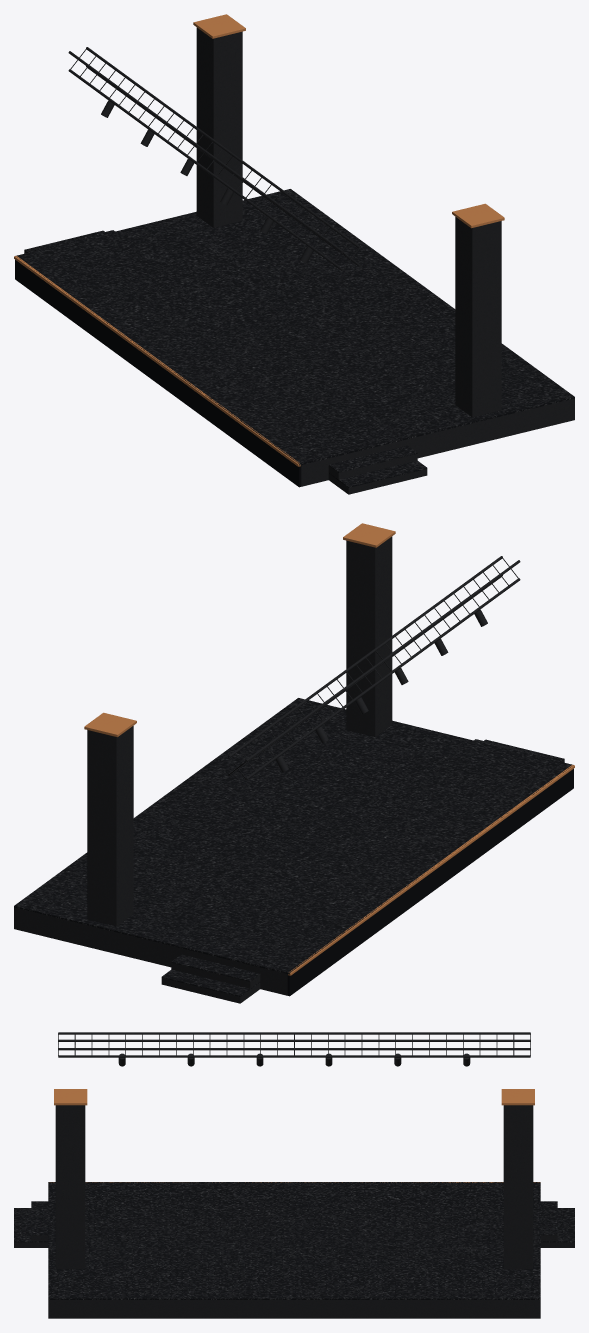
File: SM_EC_Stage.glb
3 views of the same model, one above another, from view 1: azimuth 30°, elevation 25°; view 2: azimuth 150°, elevation 25°; view 3: azimuth 270°, elevation 25° (orthographic). The views are drawn at different scales.
Visible parts, largest first — view 1: SM_EC_Stage; view 2: SM_EC_Stage; view 3: SM_EC_Stage.
Part boxes in pixels (x1,y1,x2,y2): SM_EC_Stage: (14,14,574,494); SM_EC_Stage: (14,523,574,1003); SM_EC_Stage: (14,1032,574,1318).
Size of the model in its own units: 5.62 by 4.27 by 11.4.
4 materials, 4 textured.
